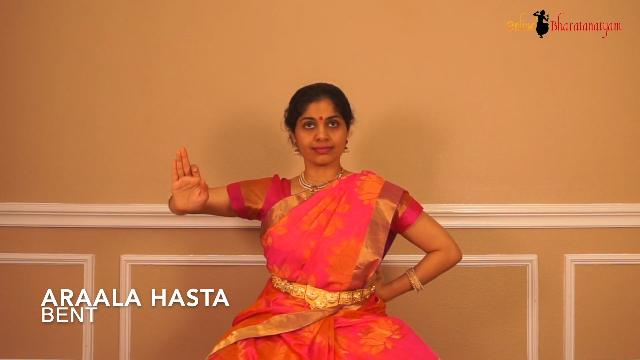aral: (152, 135, 222, 239)
